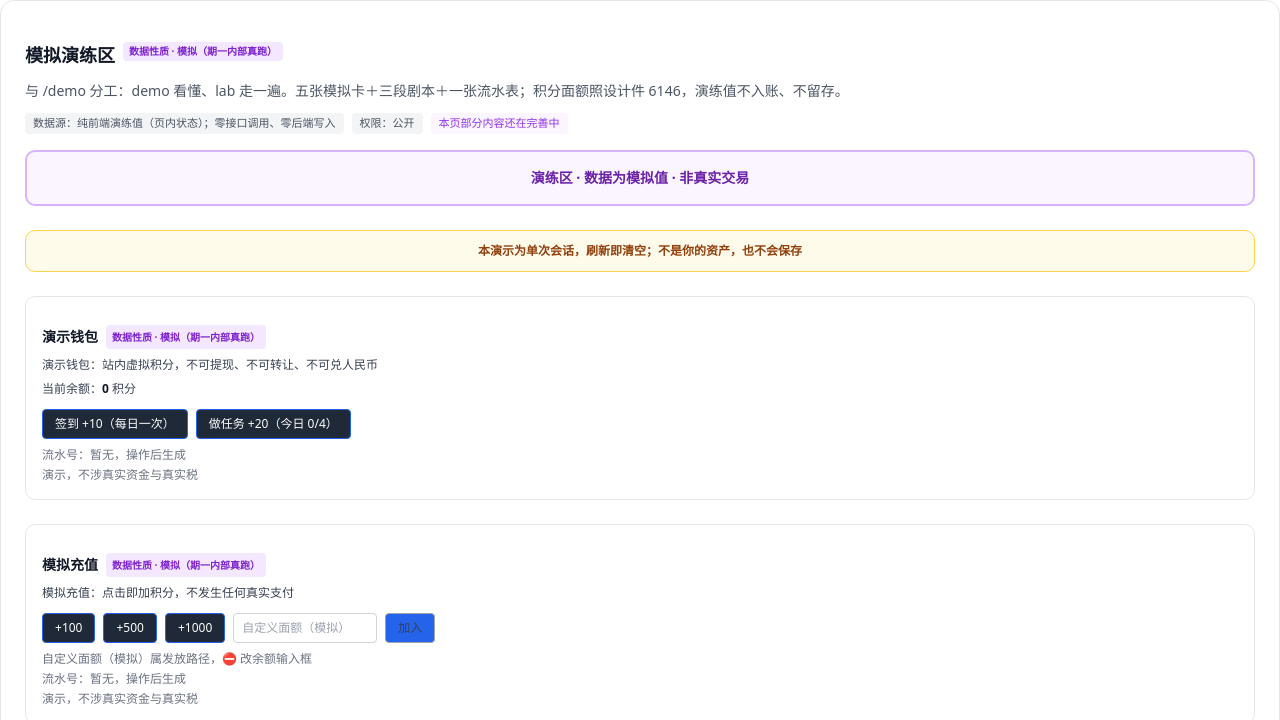
Test: B26 演练区：结算本批不扣款／计税免费 › 结算走流程不扣款（如实标注后批）；计税免费试算不扣＋示例比例标
Click the button with test id "lab-topup-100" at (69, 628), box [42,612,96,642]
(page scrolled)
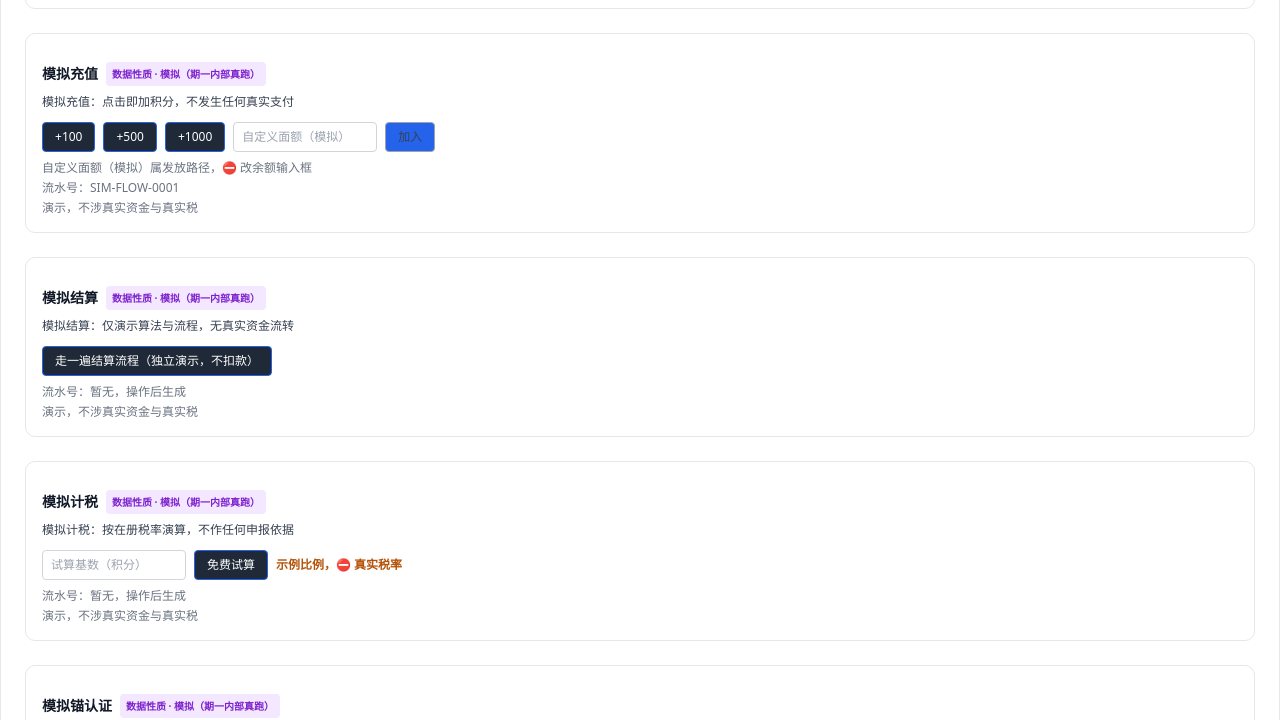
Click the button with test id "lab-settle-run" at (157, 360), box [42,346,272,376]
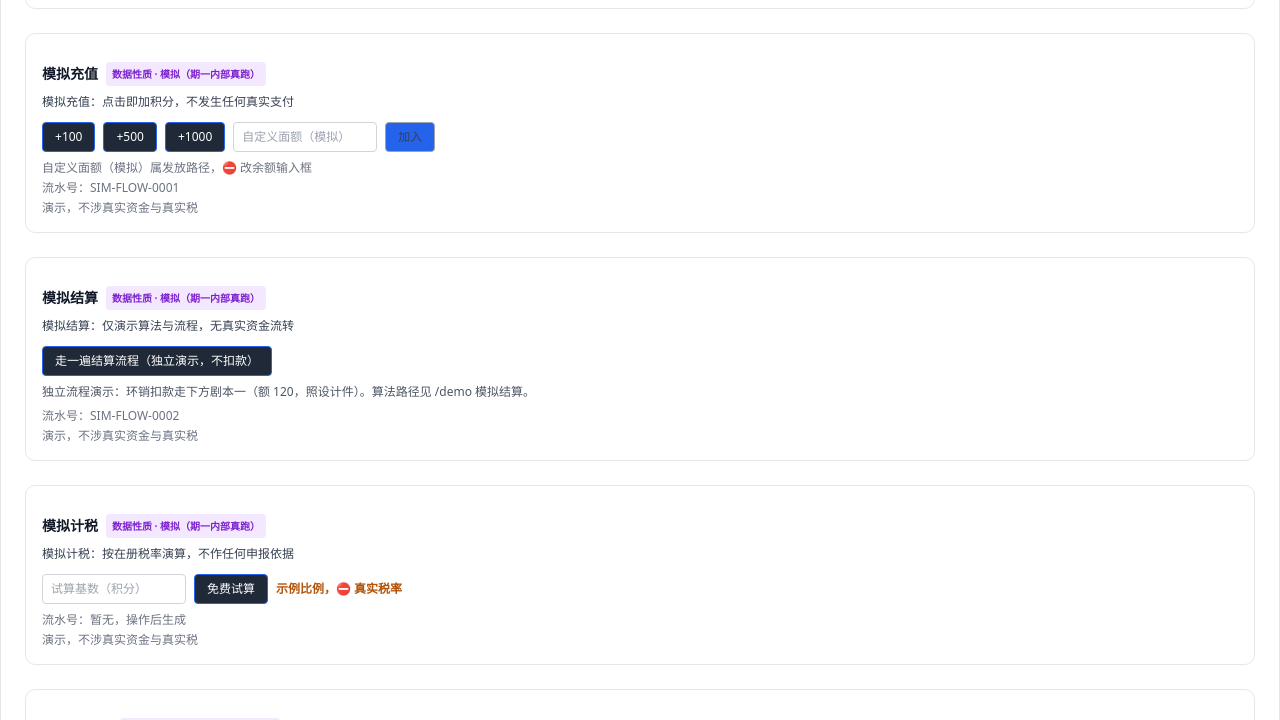
Result: the text with test id "lab-settle-note" shows "剧本一" at [42,382,535,400]
Type "200" into the field with test id "lab-tax-base" at (114, 588), box [42,574,186,604]
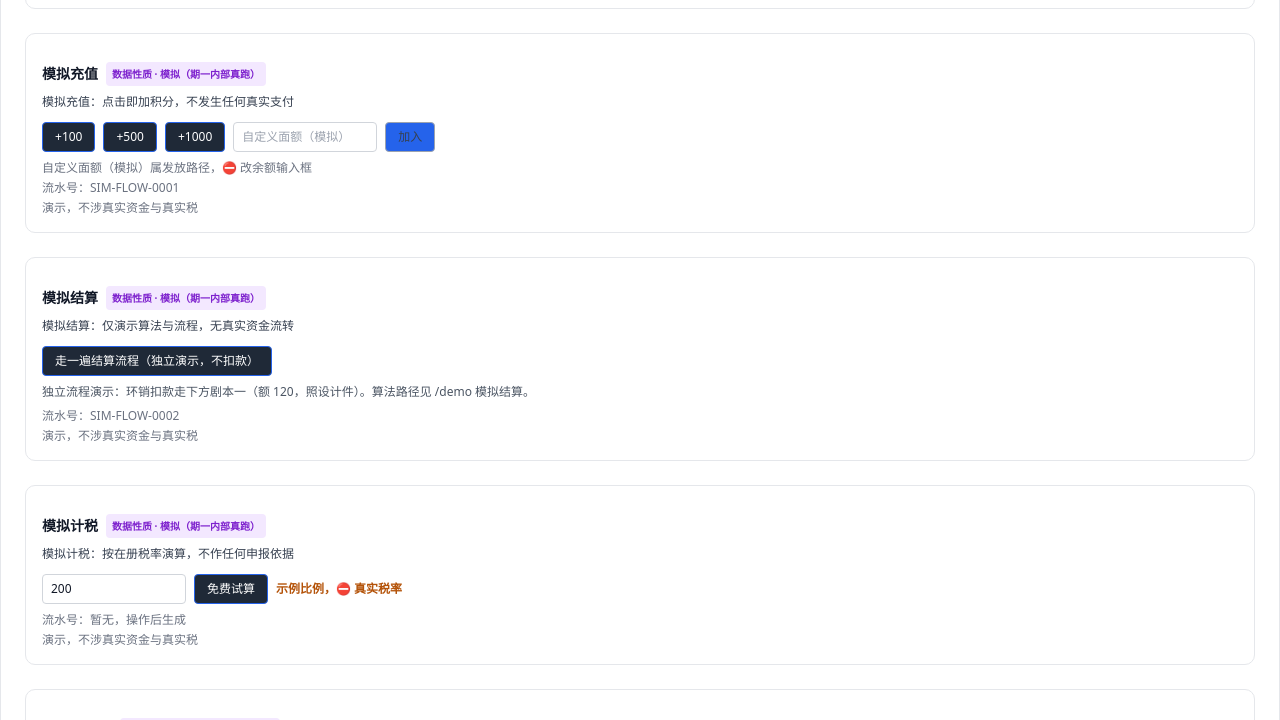
Click the button with test id "lab-tax-run" at (231, 588), box [194,574,268,604]
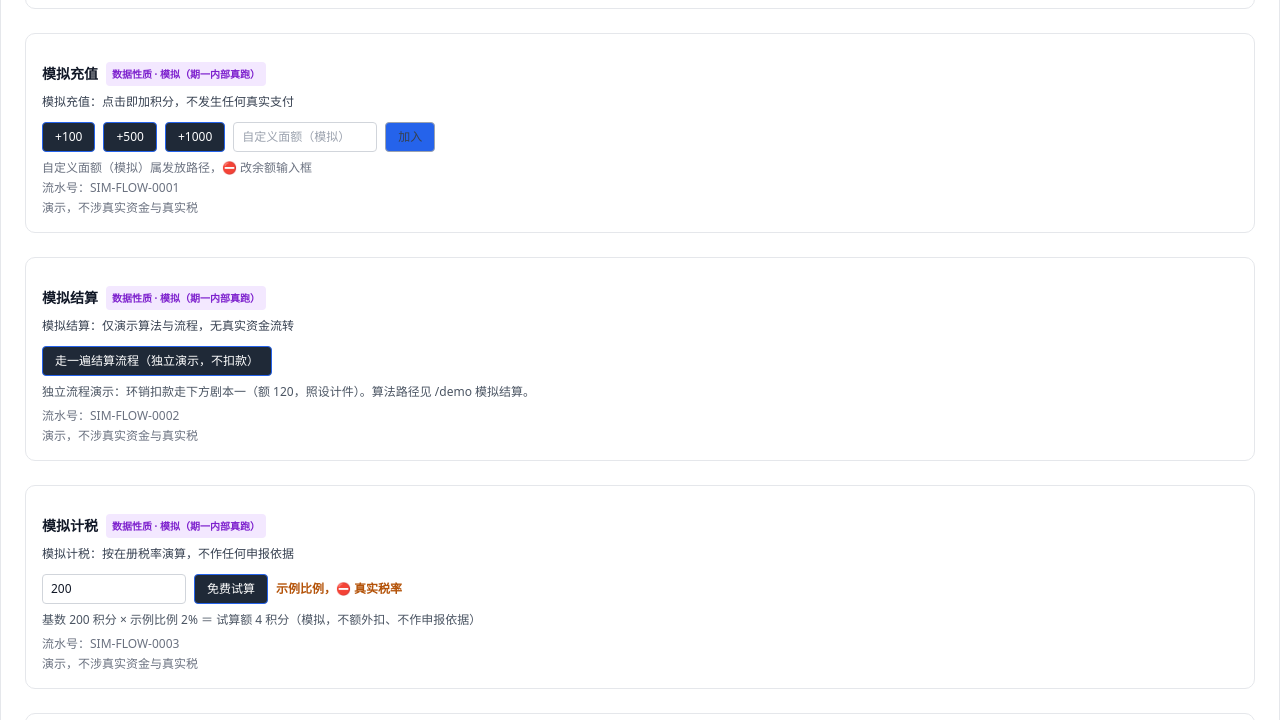
Expected: the element with test id "lab-tax" shows "示例比例，⛔ 真实税率", [276,580,402,596]
Result: the text with test id "lab-tax-result" shows "试算额 4 积分" at [42,610,481,628]
Result: the text with test id "lab-tax-result" shows "不额外扣" at [262,610,481,628]
